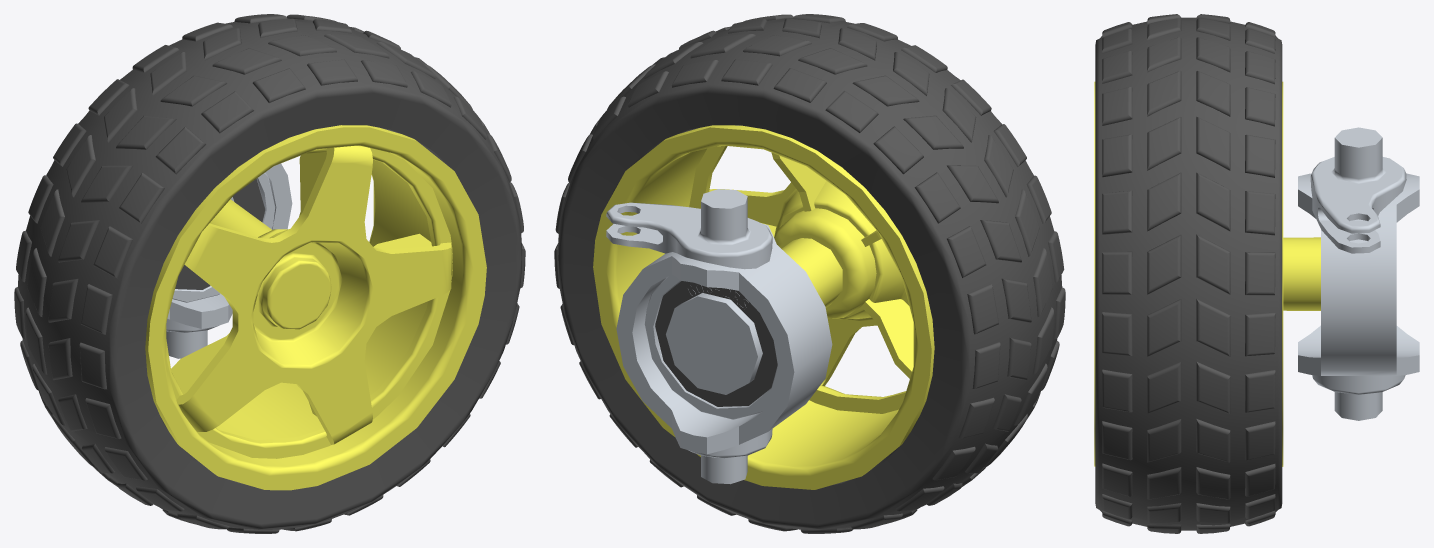
File: front_wheelhub_sub-assembly_fd.glb
3 views of the same model, side by side, from view 1: azimuth 30°, elevation 25°; view 2: azimuth 150°, elevation 25°; view 3: azimuth 270°, elevation 25° (orthographic).
Parts seen in each view (by area): view 1: Node5, Node4, Node1, Node2; view 2: Node5, Node4, Node1, Node3, Node2; view 3: Node5, Node1, Node4.
Boxes of the visible parts, <box> form: Node5: <box>14,14,525,533</box>; Node4: <box>145,125,486,490</box>; Node1: <box>166,163,292,358</box>; Node2: <box>172,173,275,302</box>; Node5: <box>554,14,1065,533</box>; Node4: <box>593,125,934,489</box>; Node1: <box>606,189,832,484</box>; Node3: <box>666,293,762,394</box>; Node2: <box>644,274,778,419</box>; Node5: <box>1095,14,1282,533</box>; Node1: <box>1298,127,1419,420</box>; Node4: <box>1094,81,1320,466</box>.
Bounding box in the file's own units: 68.87 × 68.92 × 43.05.
